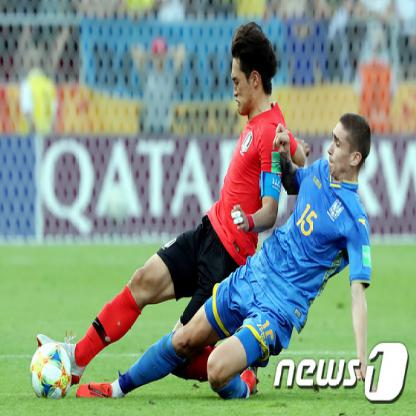Fall_Down: (73, 114, 374, 402)
